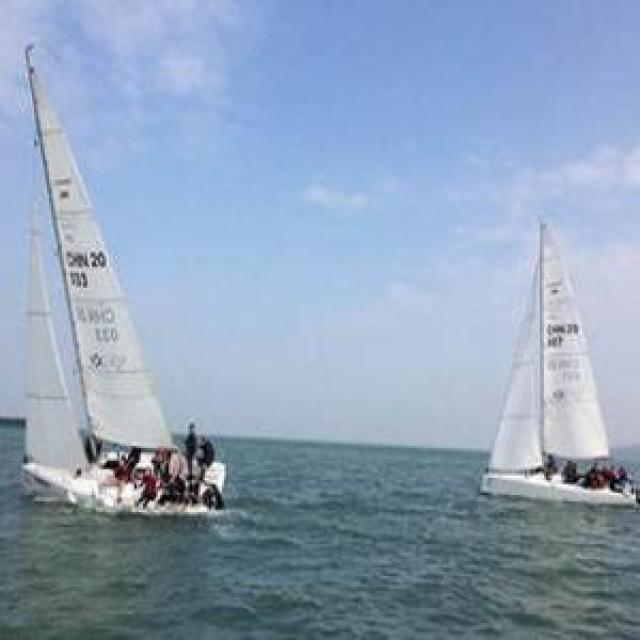sailboat: (0, 42, 234, 520), (478, 213, 640, 514)
